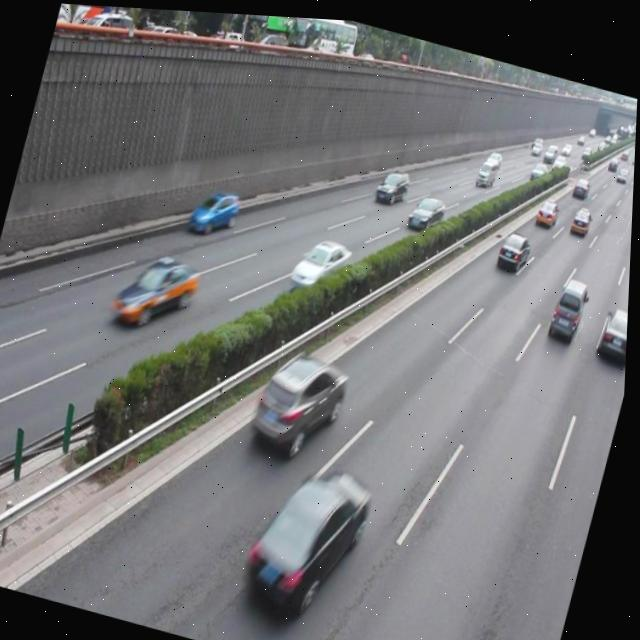car: (240, 443, 381, 621), (251, 338, 356, 457), (112, 244, 205, 335), (289, 225, 355, 293), (189, 181, 245, 237), (597, 294, 631, 358), (494, 222, 535, 270), (406, 185, 449, 229), (374, 160, 412, 200)
truck: (547, 267, 591, 338)
